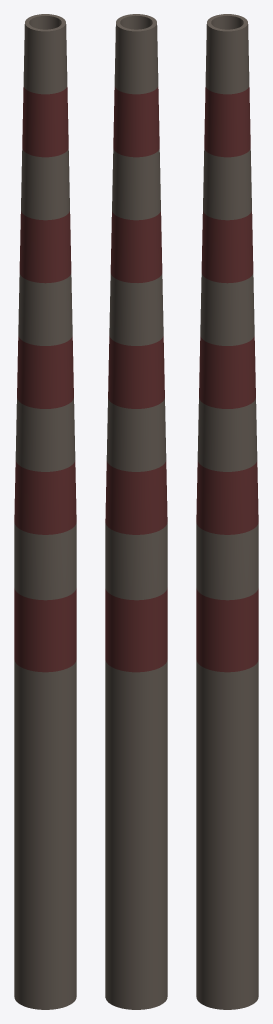
The model's file is FactoryChimney.fbx.
3 views of the same model, side by side, from view 1: azimuth 90°, elevation 25°; view 2: azimuth 150°, elevation 25°; view 3: azimuth 270°, elevation 25° (orthographic).
Parts seen in each view (by area): view 1: Cylinder; view 2: Cylinder; view 3: Cylinder.
Part boxes in pixels (left/top/right/bottom): Cylinder: left=14, top=14, right=76, bottom=1009; Cylinder: left=105, top=14, right=167, bottom=1009; Cylinder: left=196, top=14, right=258, bottom=1009.
Size of the model in its own units: 429 by 7410 by 429.
